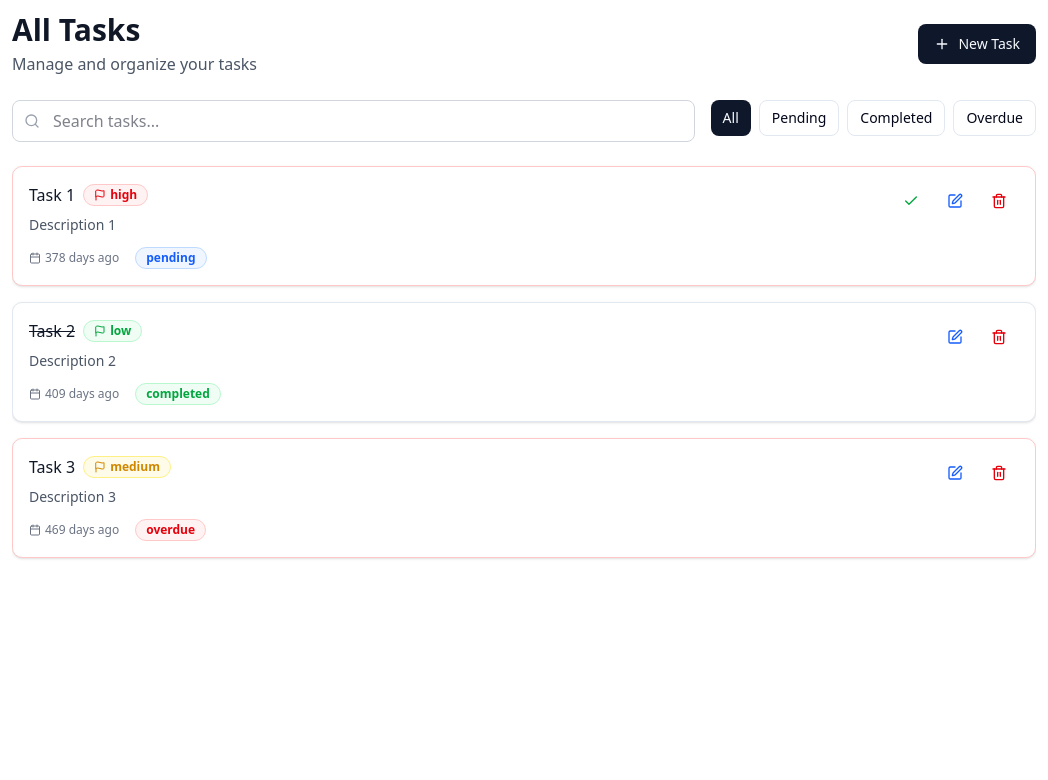
TasksPage › filters tasks by status - completed
Expected: the heading "Task 2" is shown, [29,319,75,343]
Click the button "completed".
click(896, 118)  # box [847,100,945,136]
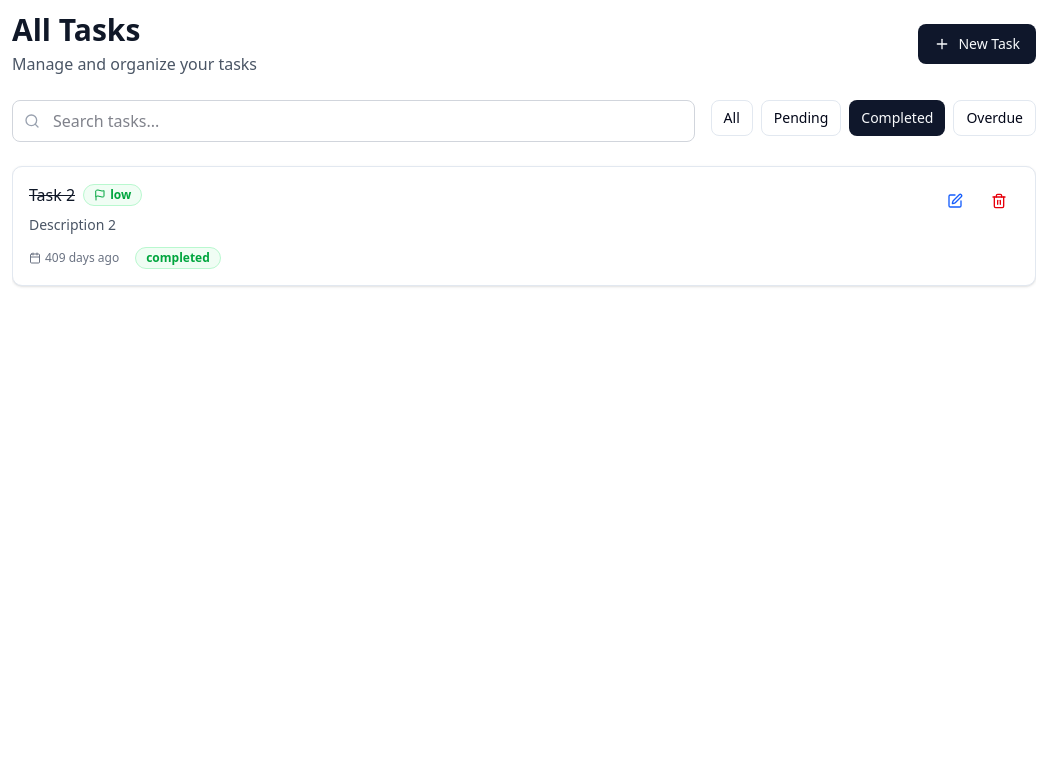
Expected: the heading "Task 2" is shown, [29,183,75,207]
Result: the heading "Task 1" is gone
Result: the heading "Task 3" is gone
